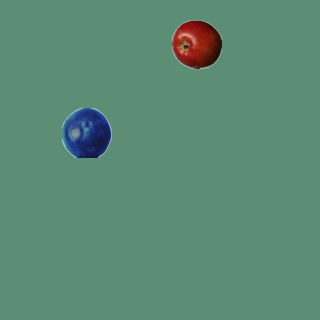Apple Braeburn: (171, 19, 221, 69)
Huckleberry: (61, 107, 111, 157)
